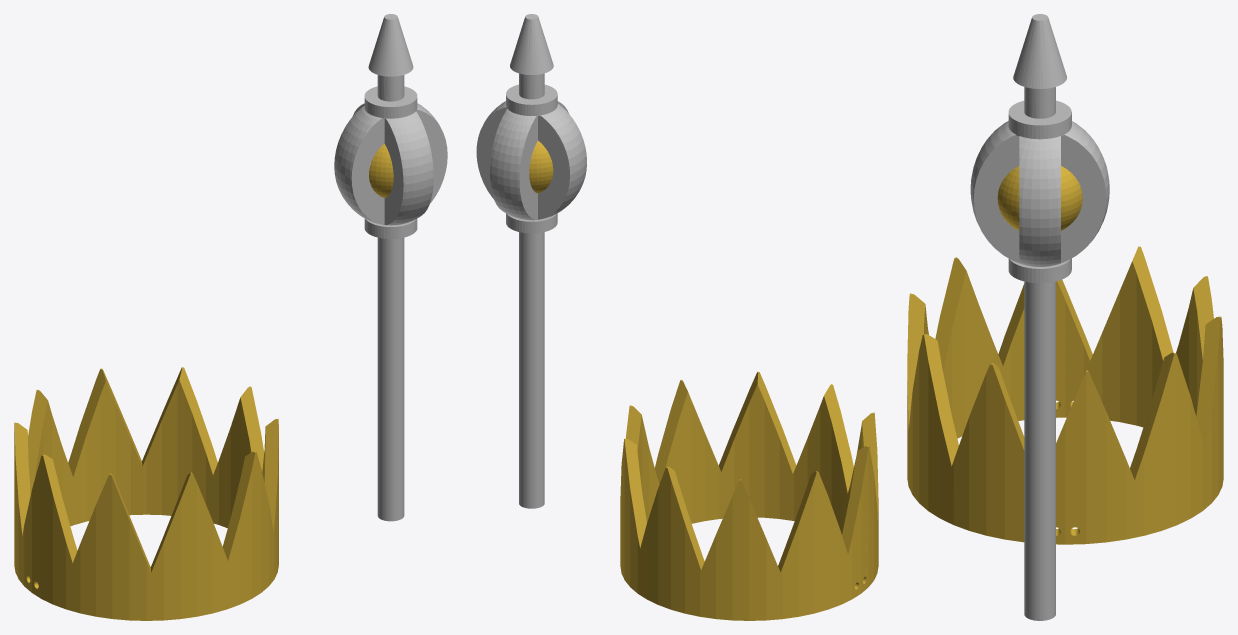
3 renders of one model, left to right at view 1: azimuth 30°, elevation 25°; view 2: azimuth 150°, elevation 25°; view 3: azimuth 270°, elevation 25°, orthographic. The views are drawn at different scales.
Parts seen in each view (by area): view 1: crown, scepter, scepter_ball; view 2: crown, scepter, scepter_ball; view 3: crown, scepter, scepter_ball.
Boxes of the visible parts, <box> form: crown: <box>14,367,278,620</box>; scepter: <box>334,14,447,521</box>; scepter_ball: <box>369,144,393,197</box>; crown: <box>620,371,878,620</box>; scepter: <box>476,14,586,508</box>; scepter_ball: <box>529,140,553,193</box>; crown: <box>907,246,1223,544</box>; scepter: <box>970,14,1109,620</box>; scepter_ball: <box>997,166,1082,230</box>.
Size of the model in its own units: 174 by 208 by 100.
